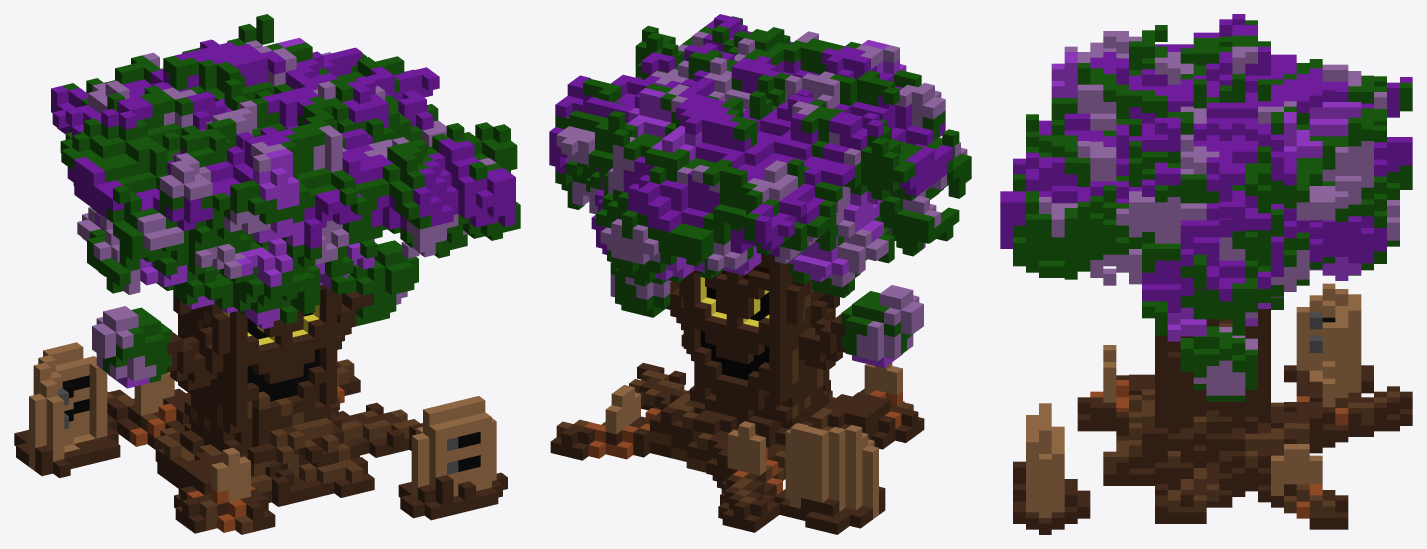
File: Lyander_Anthony_Hernández_Acosta_fase_4.obj
3 renders of one model, left to right at view 1: azimuth 30°, elevation 25°; view 2: azimuth 150°, elevation 25°; view 3: azimuth 270°, elevation 25°, orthographic. The views are drawn at different scales.
Visible parts, largest first — view 1: Lyander_Anthony_Hernández_Acosta_fase_4; view 2: Lyander_Anthony_Hernández_Acosta_fase_4; view 3: Lyander_Anthony_Hernández_Acosta_fase_4.
Boxes of the visible parts, x1,y1,x2,y2 form: Lyander_Anthony_Hernández_Acosta_fase_4: (14,14,520,534); Lyander_Anthony_Hernández_Acosta_fase_4: (549,14,971,534); Lyander_Anthony_Hernández_Acosta_fase_4: (1000,14,1412,534).
Size of the model in its own units: 32 by 32 by 32.
1 material, 1 textured.
